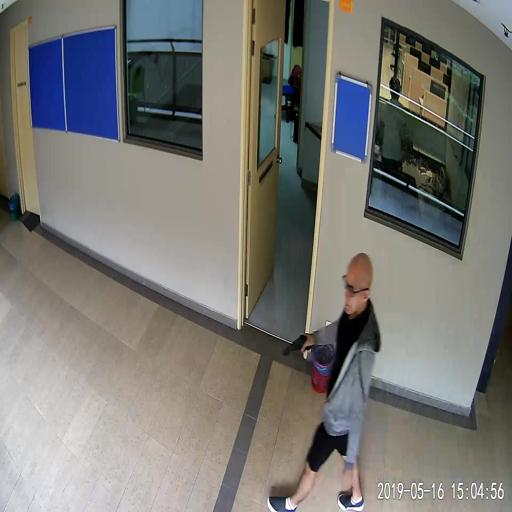pistol: (283, 331, 311, 356)
